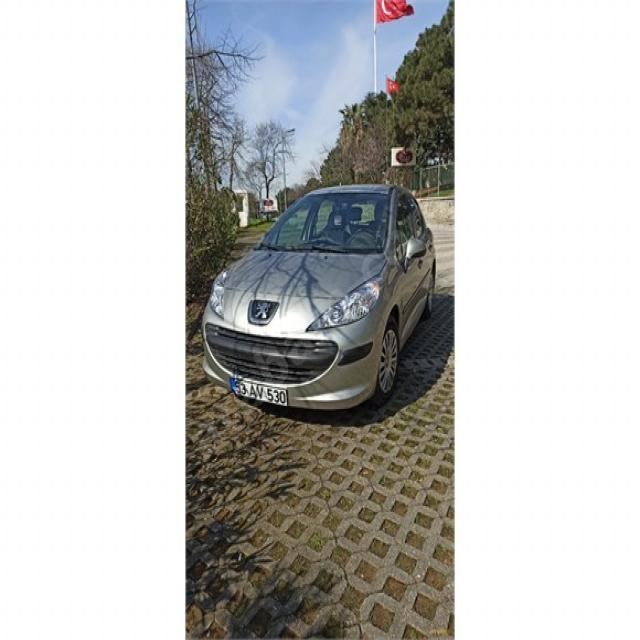plate: (229, 374, 291, 411)
